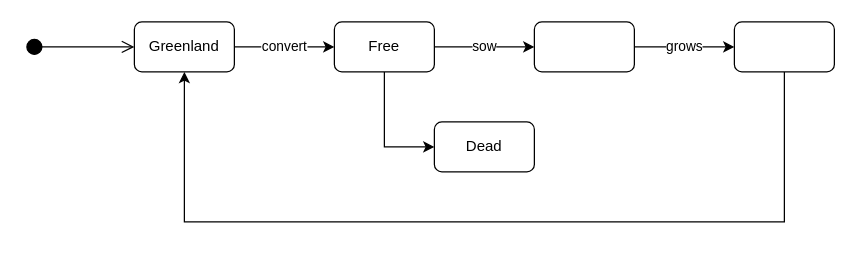
Image size: 856x254. Some labels were removed from this diagram. The shapes that lost their labels are listed below. From the top down, each one's centre as x and y in pixels, then its label:
At point 583,46: "Planted".
At point 783,46: "Mature".
